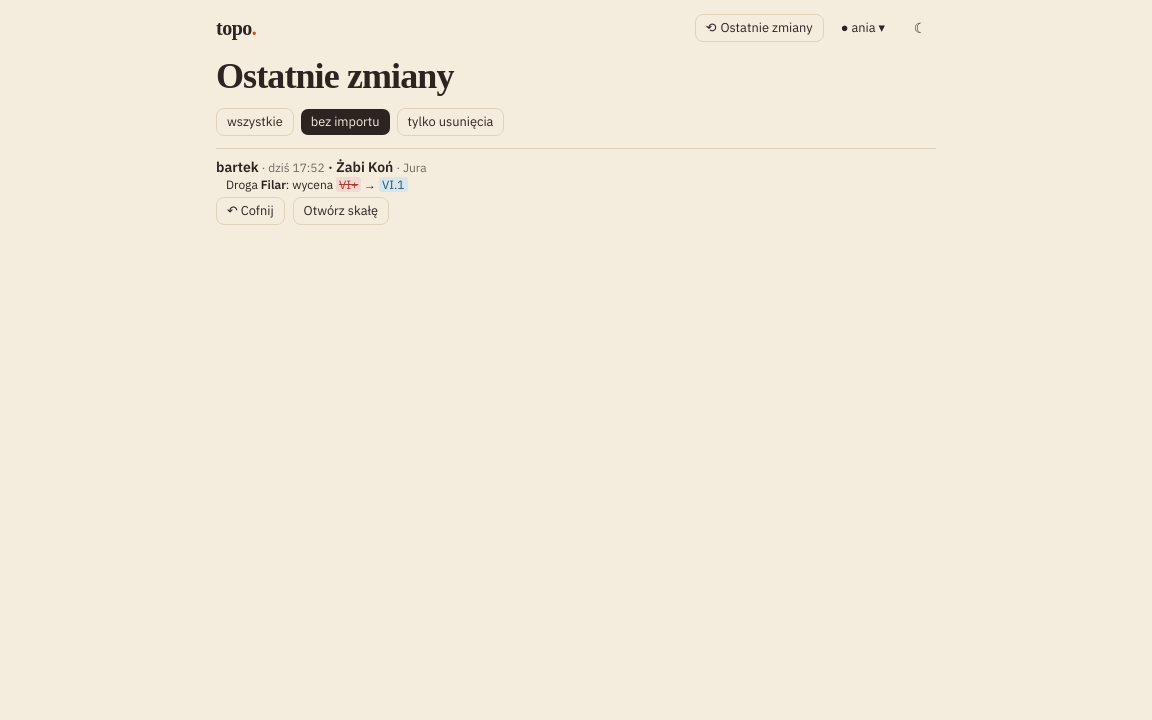
Test case: ChangesPage › konflikt przy cofaniu pokazuje okienko, a „bez konfliktu” wysyła tryb safe
The width and height of the screenshot is (1152, 720).
Click the button "↶ Cofnij": click(250, 211) [216,197,285,225]
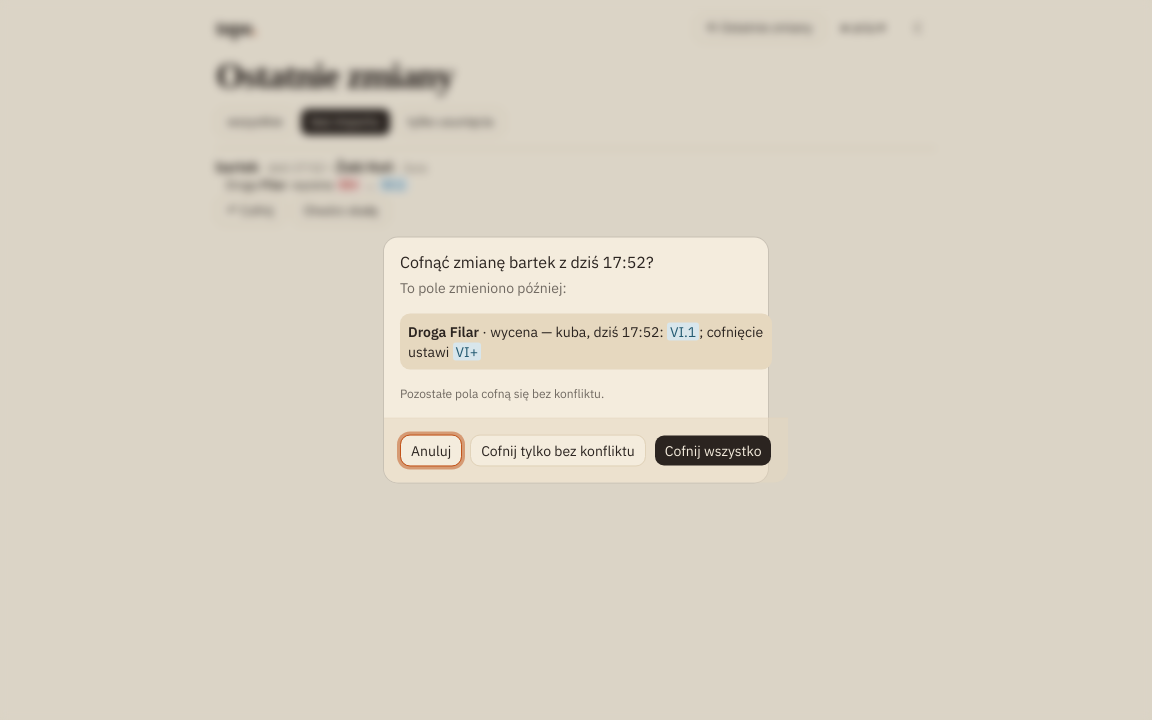
Click the button "Cofnij tylko bez konfliktu": click(558, 450) [470,434,646,466]
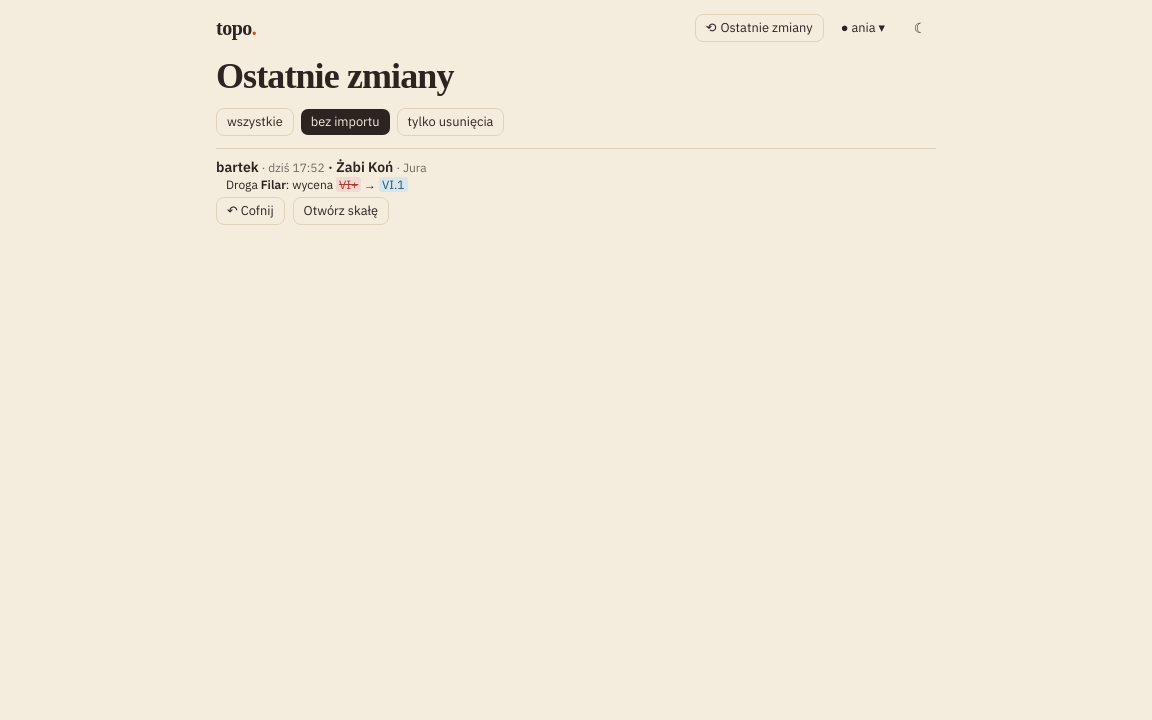
Expected: the button "Cofnij tylko bez konfliktu" is gone
